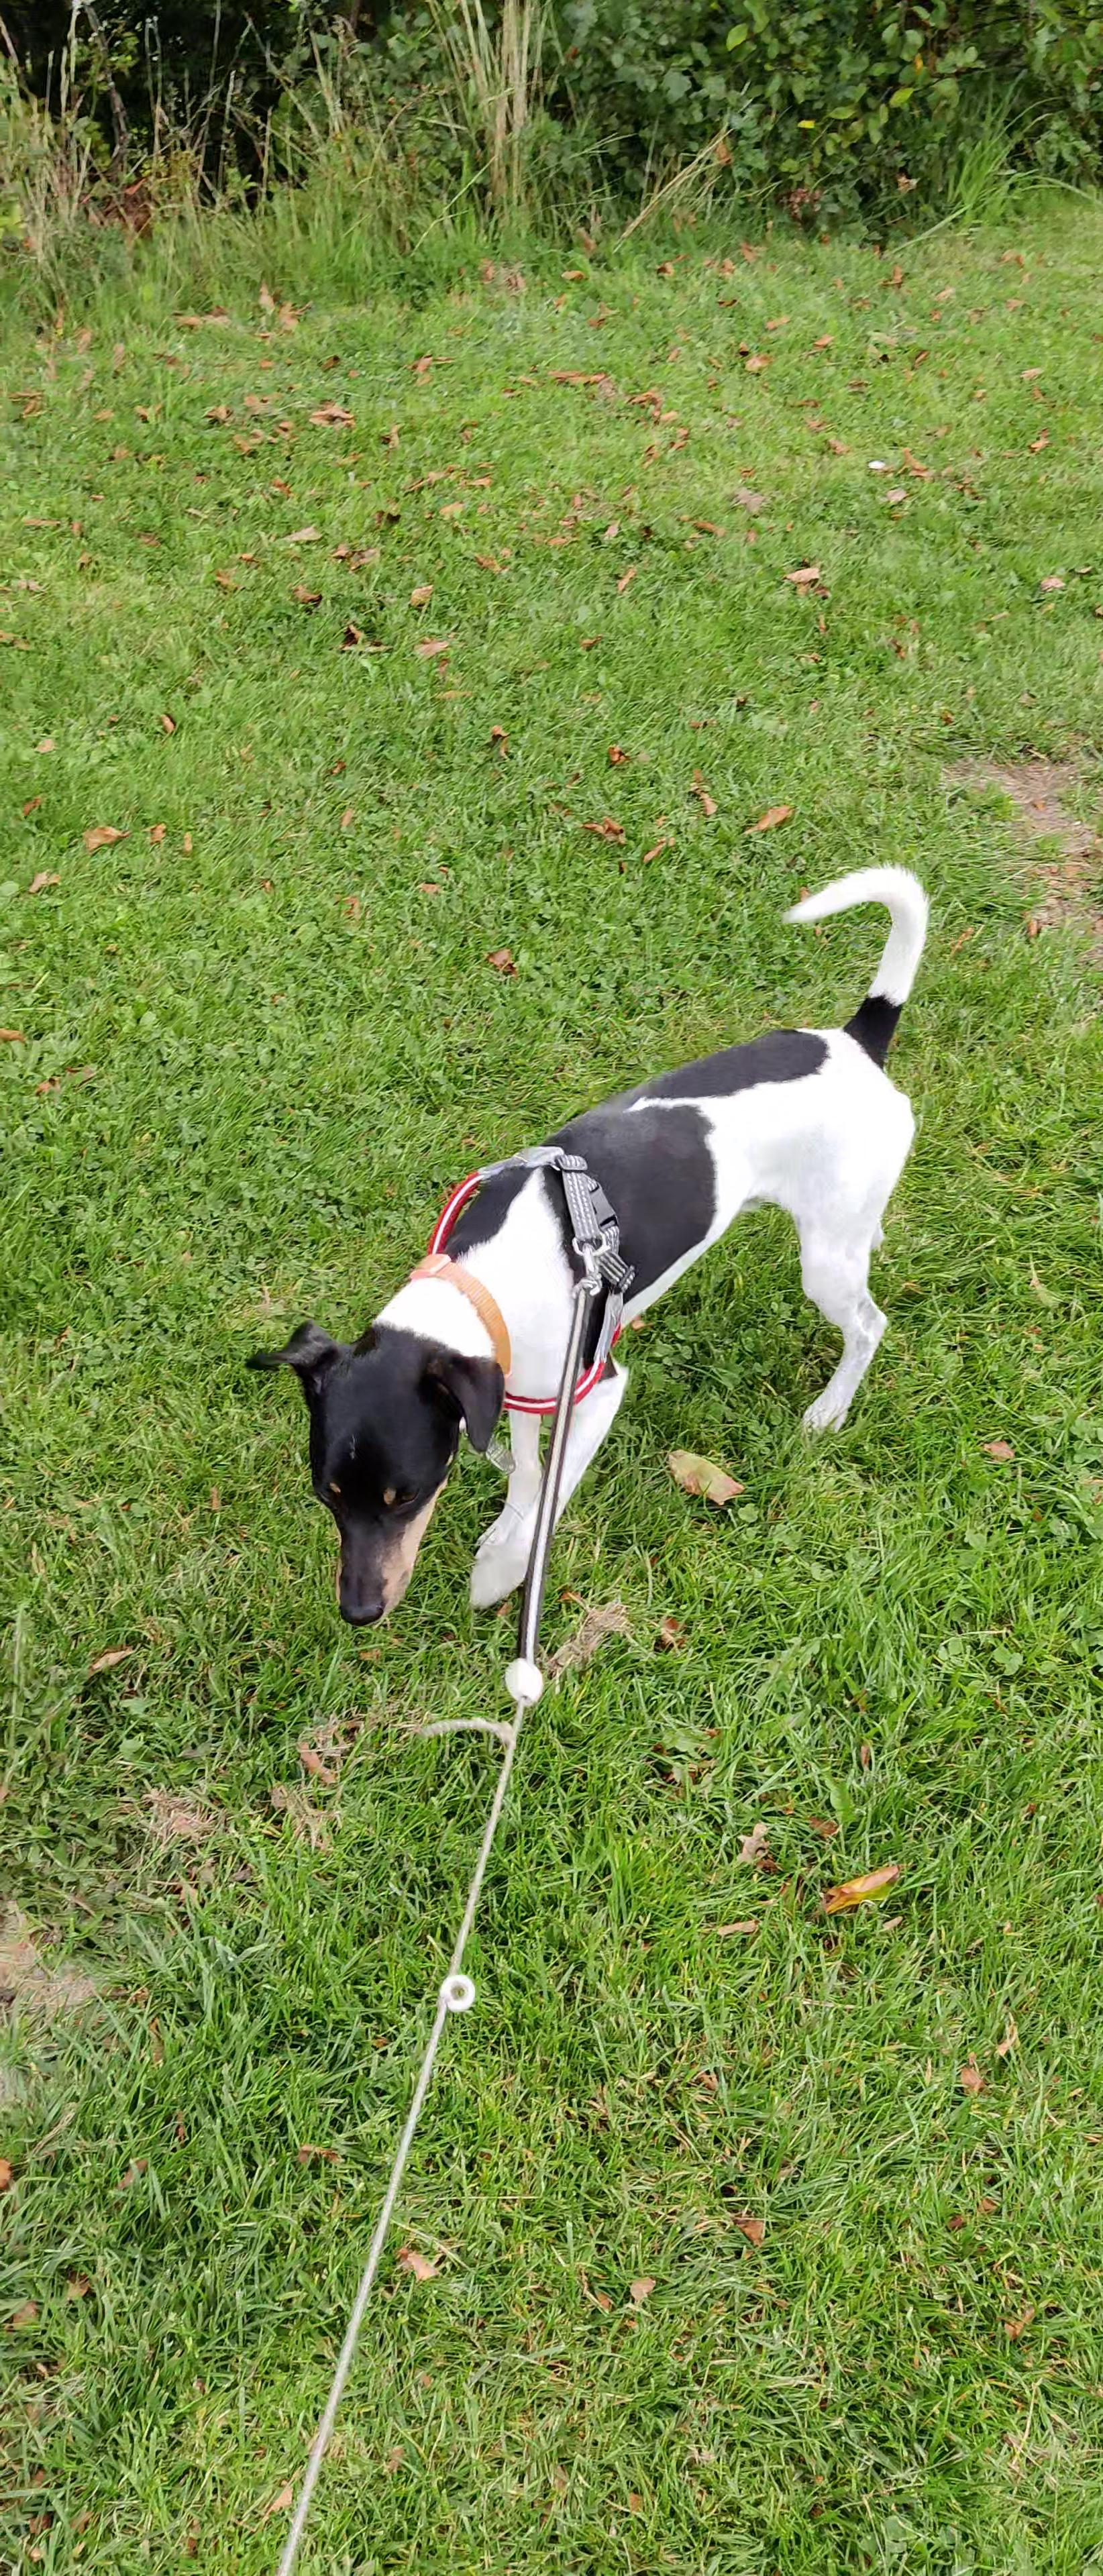Dog: (224, 838, 960, 1661)
